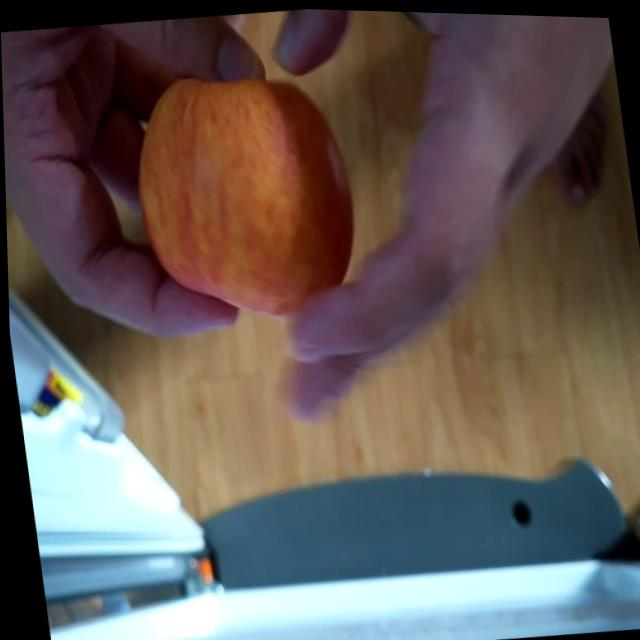apple: (125, 63, 368, 332)
